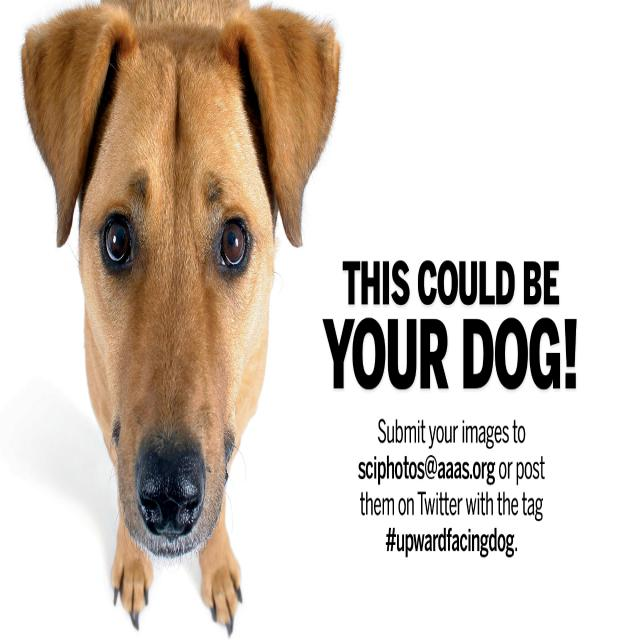eye: (216, 212, 253, 275), (99, 214, 138, 272)
